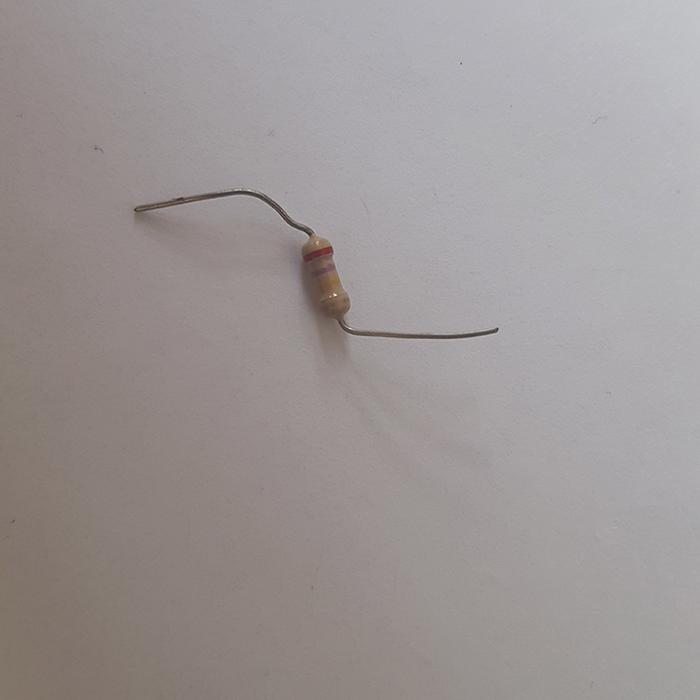resistor: (300, 232, 349, 319)
